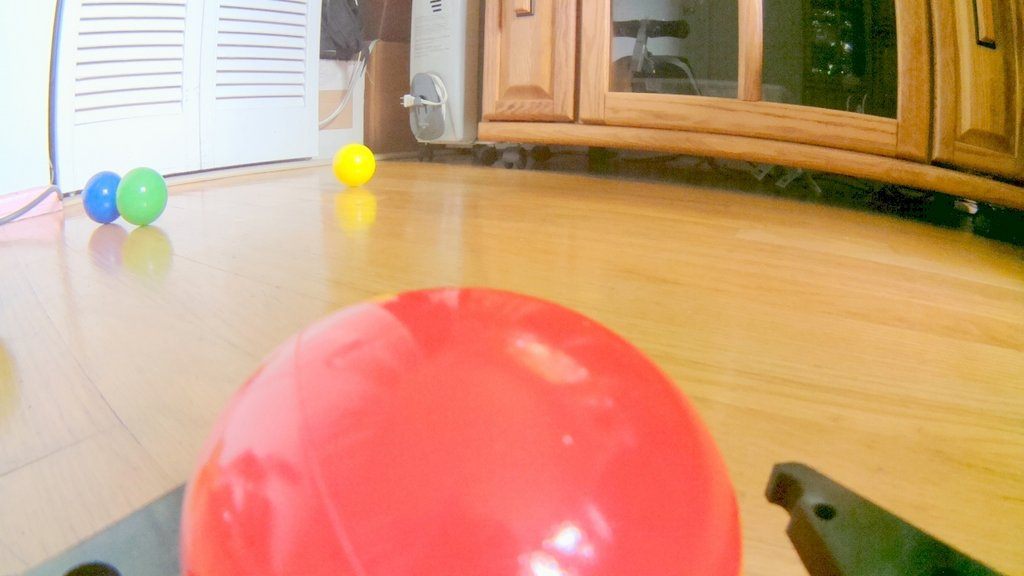ball: (81, 170, 124, 225)
